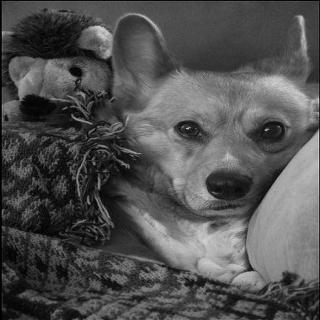dog: (112, 5, 320, 224)
nose: (200, 169, 253, 206)
